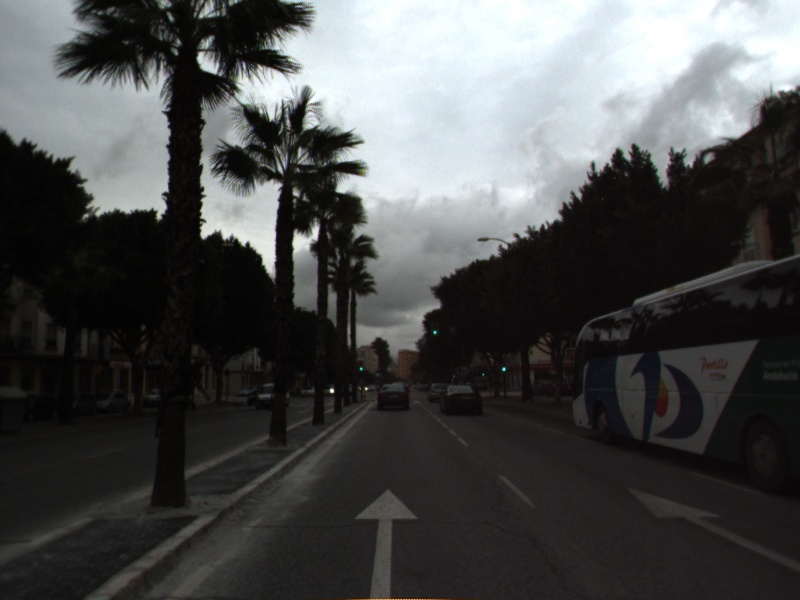STRAIGHT: (619, 482, 800, 573), (351, 484, 422, 600)
